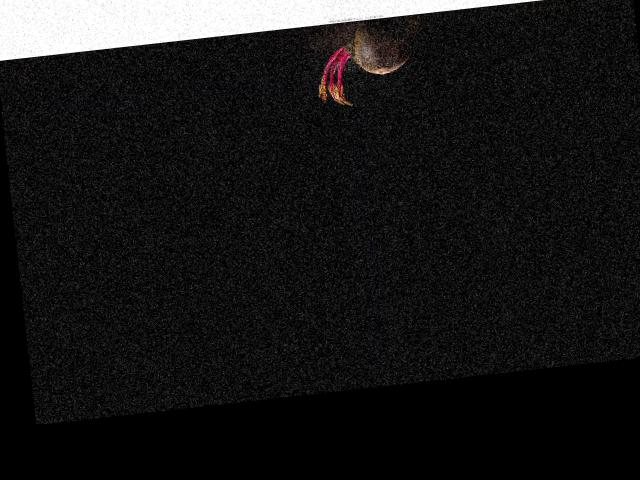beet: (311, 13, 432, 108)
